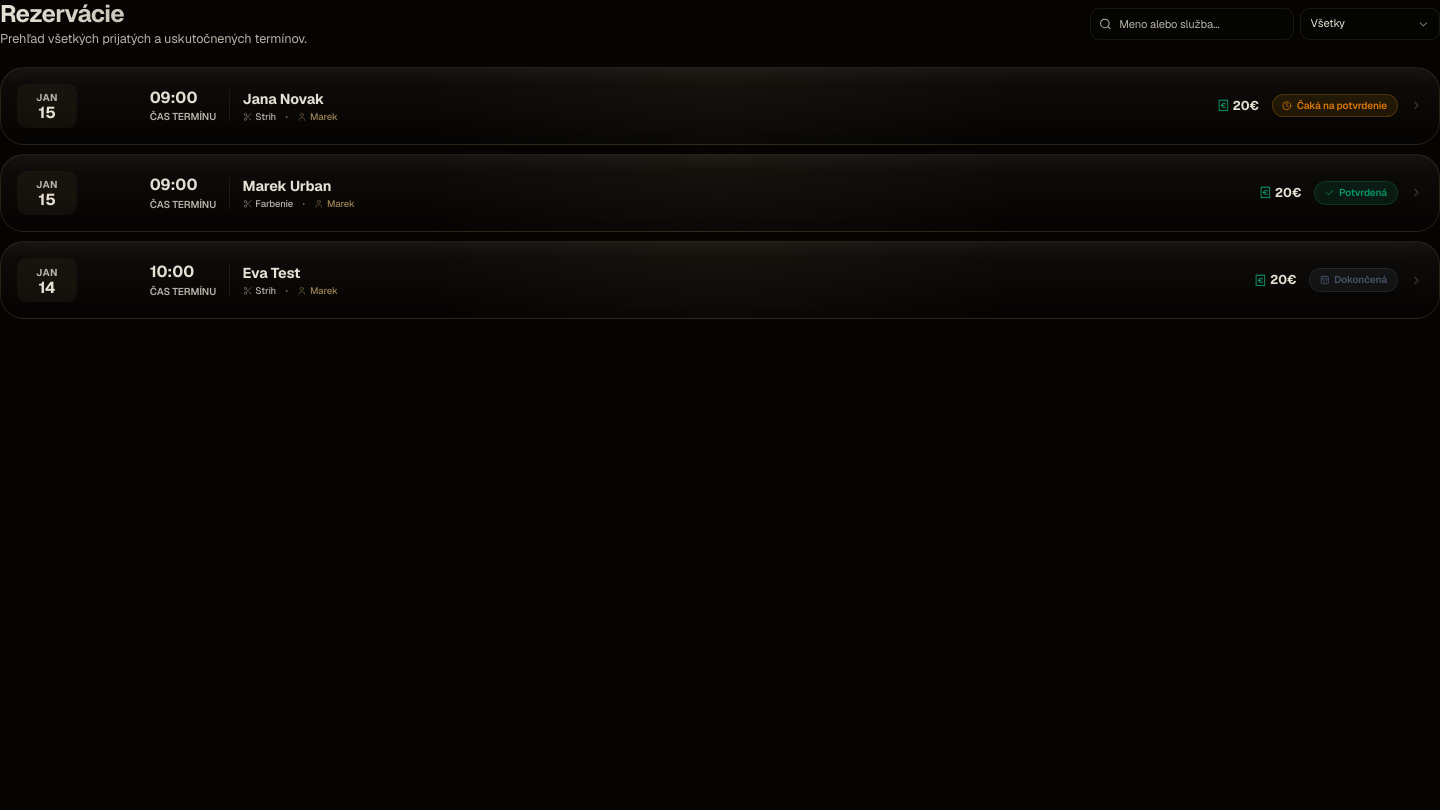
it: AppointmentsPage › opens detail dialog on card click
The width and height of the screenshot is (1440, 810).
Step 1. Click the button "Jana Novak" → (47,106), box [0, 67, 1439, 144]
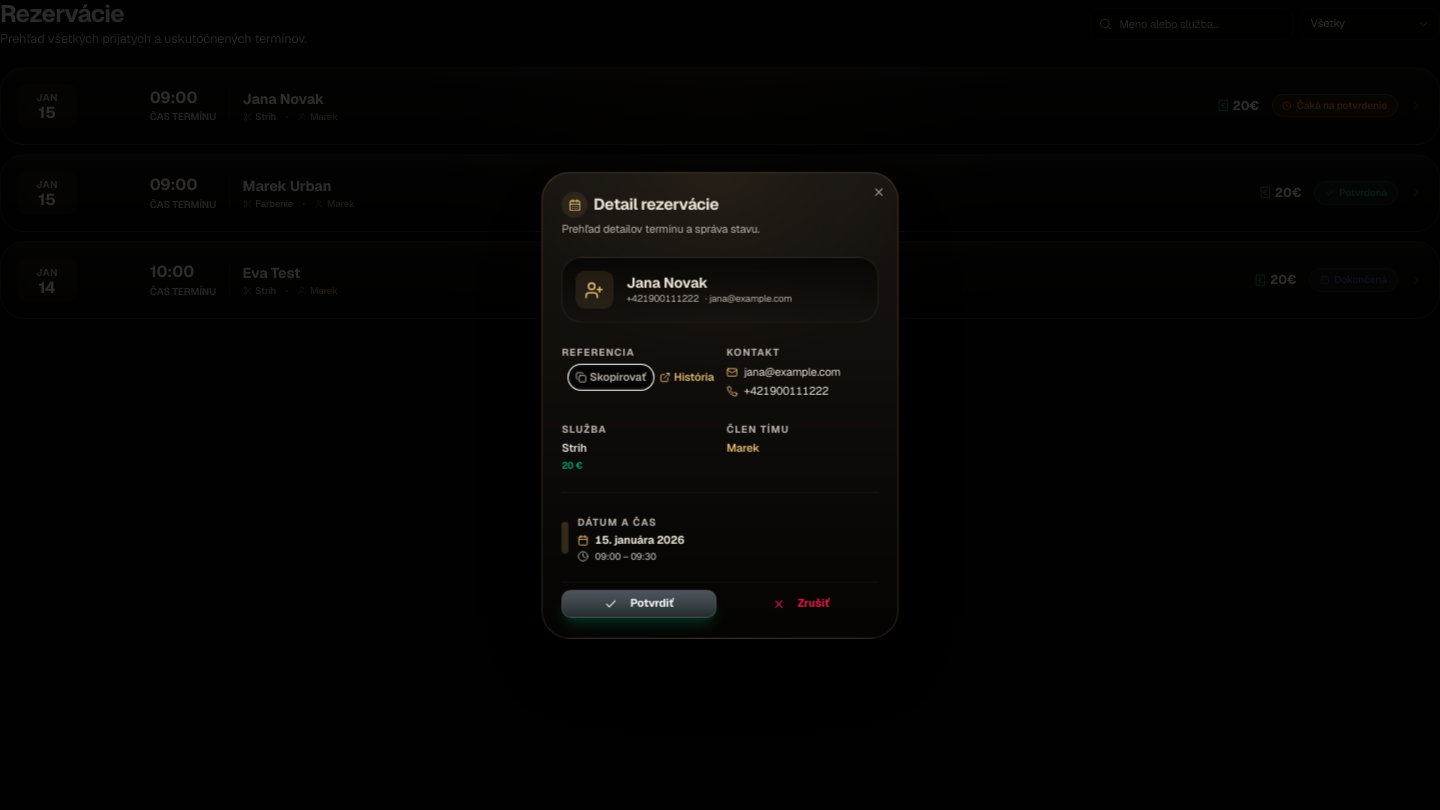
Now the heading "Detail rezervácie" is shown, box [562, 192, 719, 217]
